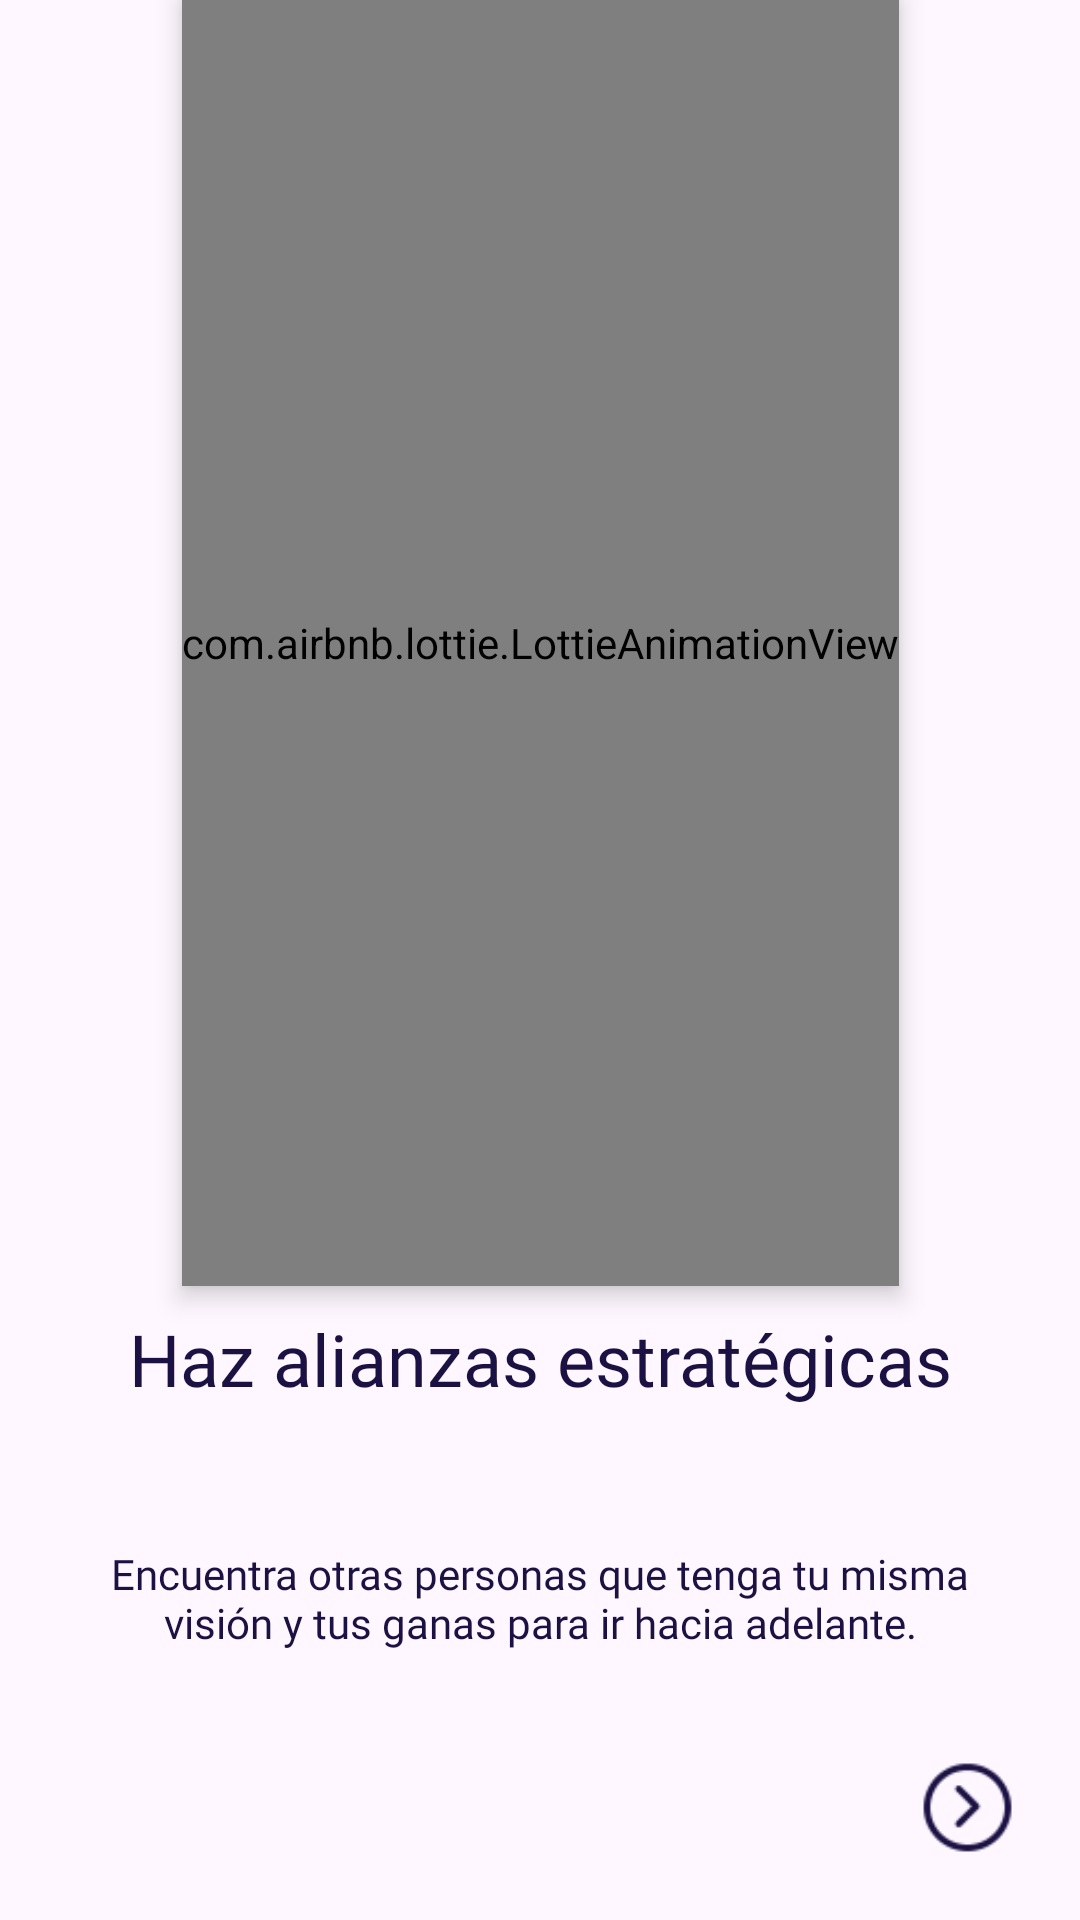

Where to tap for icons on this 1080×1920 app screen, as [x,y]:
next page: [967,1807]
